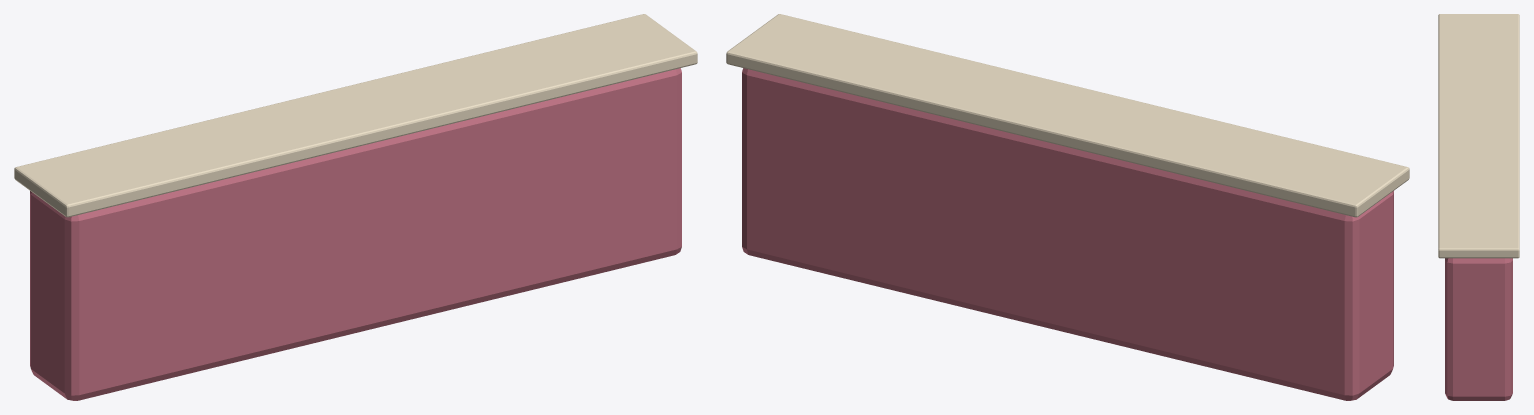
Rendered from Parkour_LowWall.fbx.
3 renders of one model, left to right at view 1: azimuth 30°, elevation 25°; view 2: azimuth 150°, elevation 25°; view 3: azimuth 270°, elevation 25°, orthographic. The views are drawn at different scales.
Visible parts, largest first — view 1: LowWall; view 2: LowWall; view 3: LowWall.
Boxes of the visible parts, x1=… form: LowWall: x1=14, y1=14, x2=697, y2=400; LowWall: x1=726, y1=14, x2=1409, y2=400; LowWall: x1=1438, y1=14, x2=1519, y2=400.
Size of the model in its own units: 4.1 by 1.28 by 0.6.
